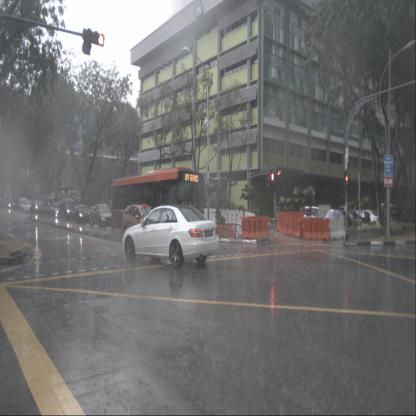movable_object-barrier: (241, 216, 269, 240), (303, 217, 330, 241), (203, 208, 226, 228), (328, 216, 346, 240), (225, 209, 244, 231), (287, 216, 304, 240), (276, 211, 291, 236), (280, 211, 304, 226), (244, 211, 256, 228)
movable_object-trafficcone: (273, 226, 278, 244)
vehicle-bus-rigid: (111, 167, 204, 233)
vehicle-car: (122, 206, 220, 268), (122, 206, 166, 240), (299, 205, 337, 230), (90, 204, 113, 229), (350, 210, 381, 228), (337, 210, 364, 230), (59, 198, 77, 223), (348, 209, 371, 227), (73, 205, 92, 224), (49, 203, 63, 218), (31, 198, 44, 213), (19, 198, 29, 212), (9, 199, 20, 211), (24, 201, 34, 212)
vehicle-truck: (37, 196, 59, 218)
